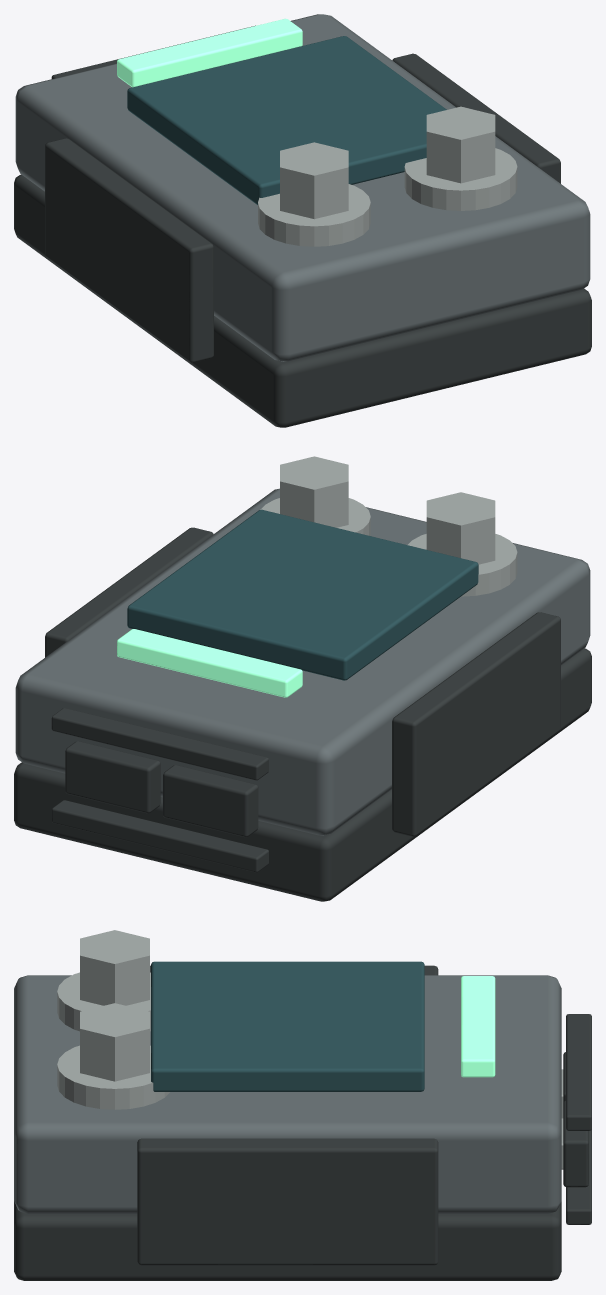
The model's file is automated-parking-and-vehicle-retrieval-automated-park-7a301eec__30351.glb.
3 views of the same model, one above another, from view 1: azimuth 30°, elevation 25°; view 2: azimuth 150°, elevation 25°; view 3: azimuth 270°, elevation 25° (orthographic). The views are drawn at different scales.
Visible parts, largest first — view 1: automated-parking-and-vehicle-retrieval-access-card-reader; view 2: automated-parking-and-vehicle-retrieval-access-card-reader; view 3: automated-parking-and-vehicle-retrieval-access-card-reader.
Boxes of the visible parts, x1=… form: automated-parking-and-vehicle-retrieval-access-card-reader: x1=14, y1=14, x2=591, y2=427; automated-parking-and-vehicle-retrieval-access-card-reader: x1=14, y1=456, x2=591, y2=901; automated-parking-and-vehicle-retrieval-access-card-reader: x1=14, y1=930, x2=591, y2=1280.
Bounding box in the file's own units: 0.152 × 0.085 × 0.2005.
